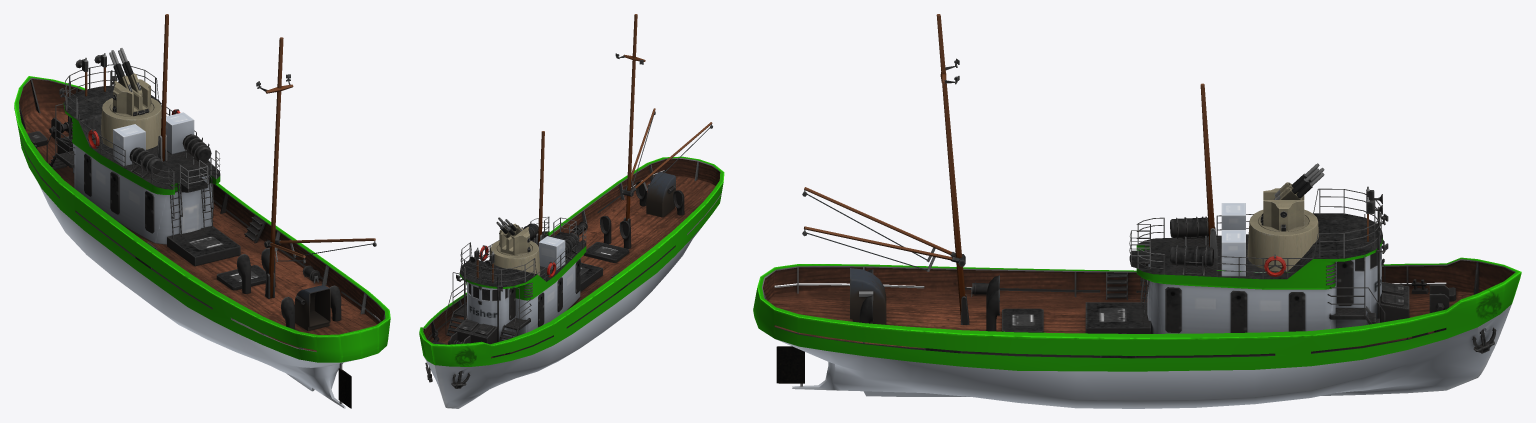
The model's file is Boat2.fbx.
The picture shows the model from 3 angles, left to right: view 1: azimuth 30°, elevation 25°; view 2: azimuth 150°, elevation 25°; view 3: azimuth 270°, elevation 25°; orthographic projection. The views are drawn at different scales.
Parts seen in each view (by area): view 1: Boat, GunBase, GunMount, Barrels; view 2: Boat, GunBase, GunMount, Barrels; view 3: Boat, GunBase, GunMount, Barrels.
Boxes of the visible parts, x1,y1,x2,y2 form: Boat: (14, 14, 390, 408); GunBase: (101, 98, 161, 149); GunMount: (110, 79, 153, 116); Barrels: (109, 48, 142, 96); Boat: (419, 14, 724, 408); GunBase: (490, 240, 540, 275); GunMount: (497, 223, 532, 255); Barrels: (496, 217, 522, 238); Boat: (753, 14, 1521, 408); GunBase: (1247, 209, 1318, 271); GunMount: (1258, 188, 1308, 231); Barrels: (1273, 163, 1324, 199).
Bounding box in the file's own units: 6.12 × 15.83 × 28.89.
2 materials, 2 textured.
